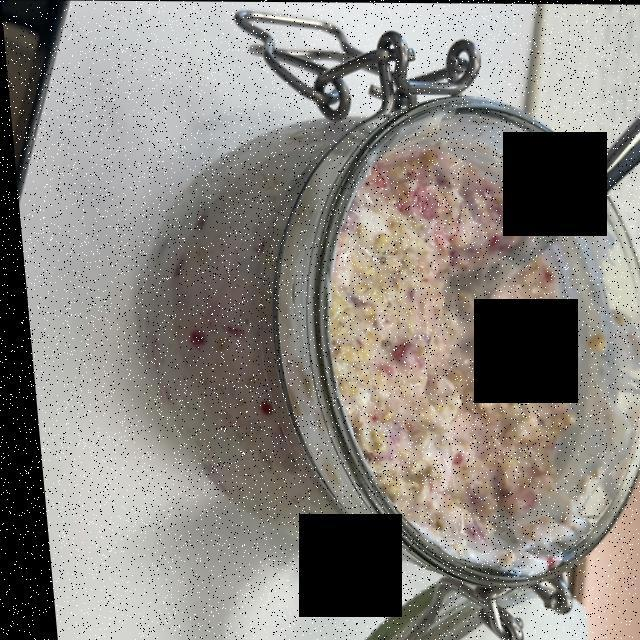birchermuesli: (321, 139, 558, 525)
